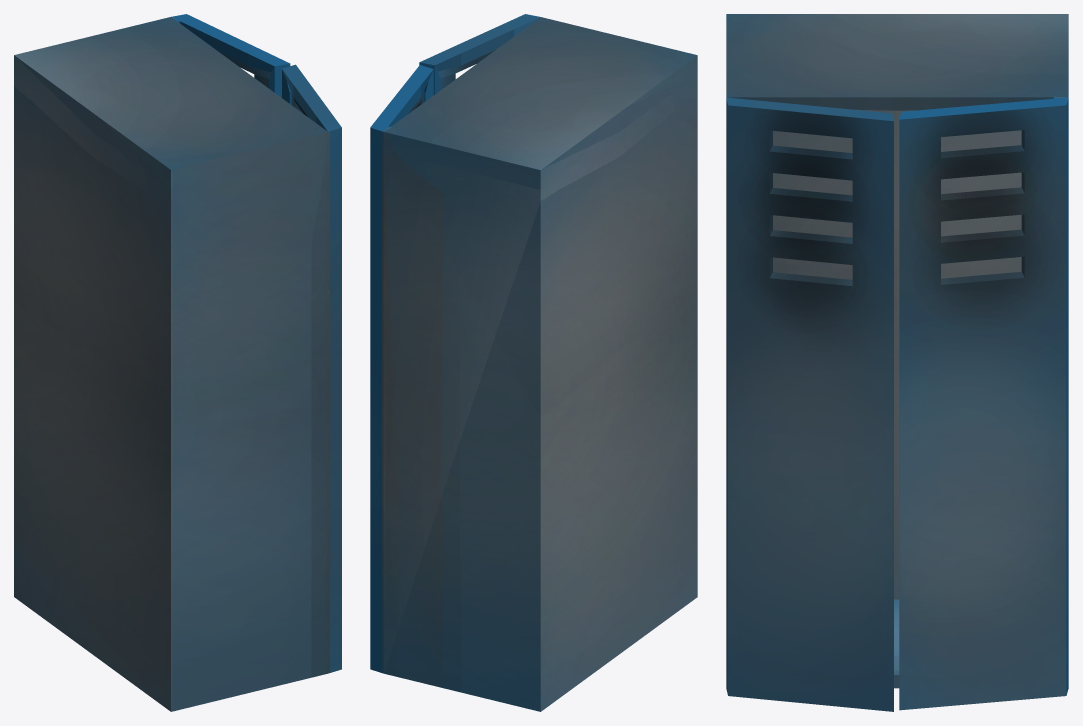
File: locker.fbx
The picture shows the model from 3 angles, left to right: view 1: azimuth 30°, elevation 25°; view 2: azimuth 150°, elevation 25°; view 3: azimuth 270°, elevation 25°; orthographic projection. The views are drawn at different scales.
Visible parts, largest first — view 1: locker, Cube.003, Cube.002; view 2: locker, Cube.002, Cube.003; view 3: Cube.002, Cube.003, locker.
Boxes of the visible parts, x1,y1,x2,y2 form: locker: (14, 17, 327, 711); Cube.003: (282, 64, 341, 673); Cube.002: (171, 14, 290, 97); locker: (384, 17, 697, 711); Cube.002: (370, 65, 433, 673); Cube.003: (419, 14, 540, 94); Cube.002: (899, 96, 1068, 710); Cube.003: (726, 97, 893, 711); locker: (726, 14, 1068, 688).
Size of the model in its own units: 51.95 by 133 by 70.08.
Materials: 1 (1 with a texture image).
